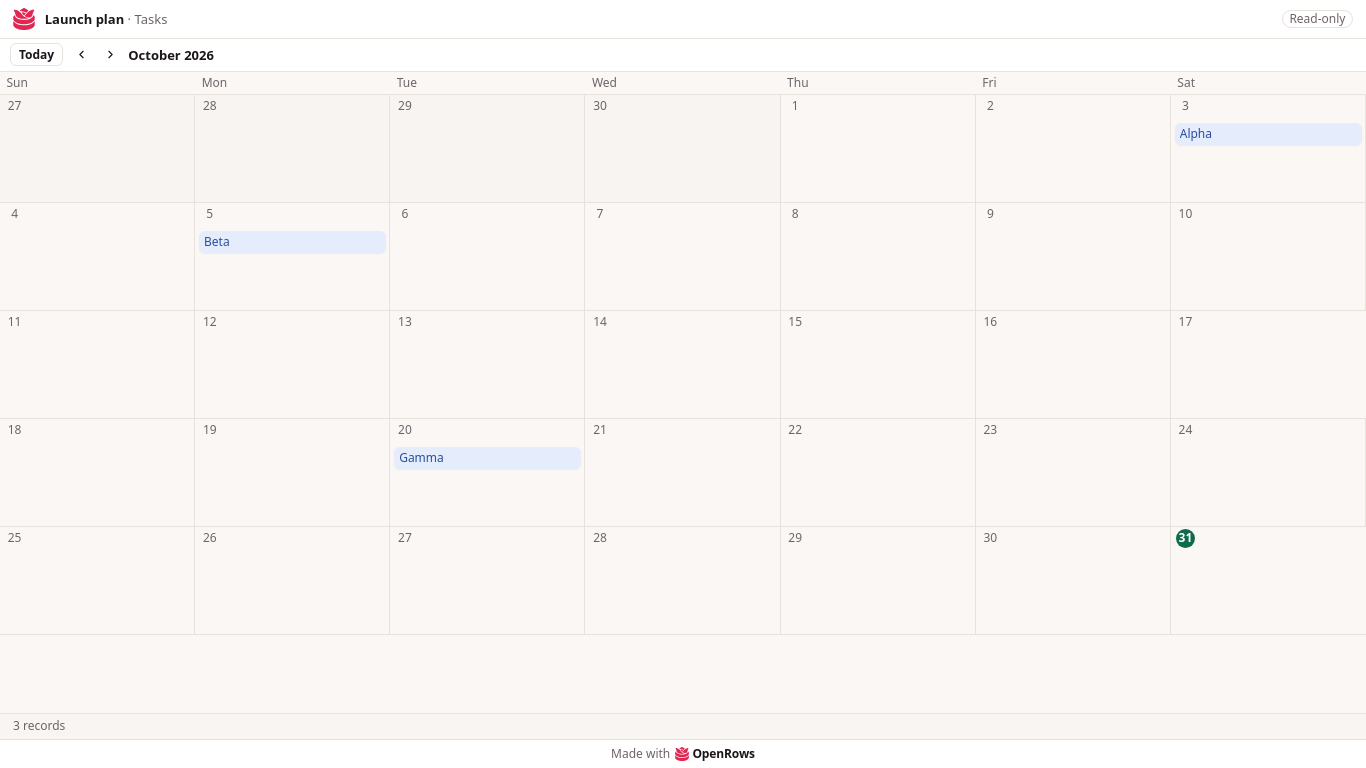
Test: view share links (#97) › other layouts (#120) › shows a calendar month with its events, and steps months
The width and height of the screenshot is (1366, 768).
Check: the text "Alpha" is shown, box [1180,126,1212,142]
Check: the text "Gamma" is shown, box [399,450,444,466]
Click the button named "Next": [110, 55] box [99,43,122,66]
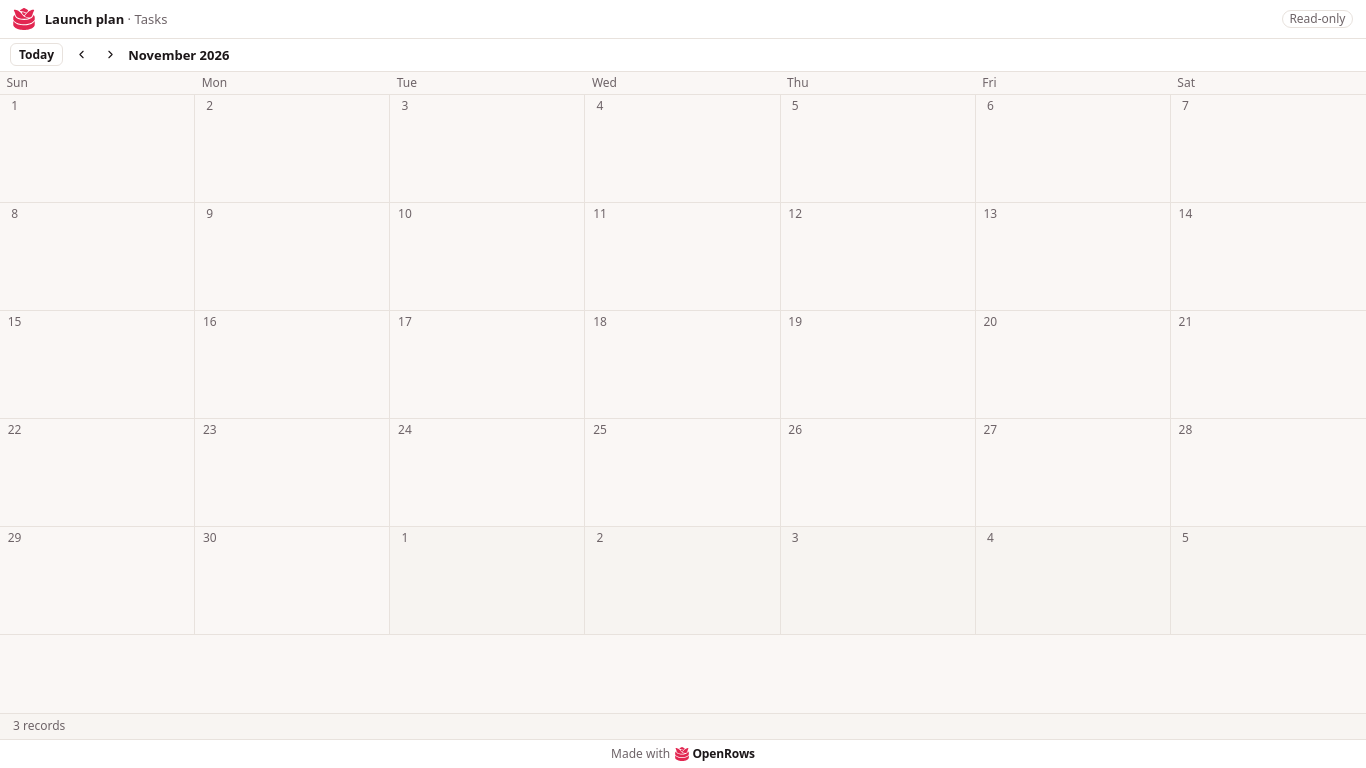
Check: the heading "October 2026" no longer shows "October 2026"
